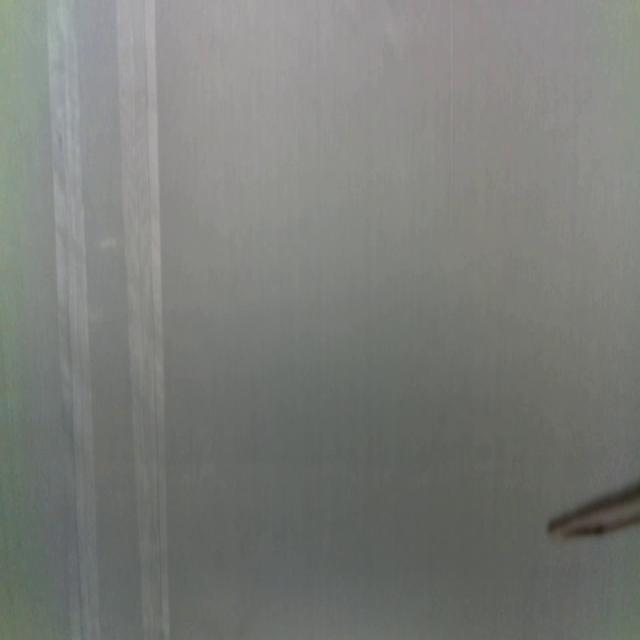crease: (118, 0, 172, 640), (46, 0, 98, 640), (448, 0, 455, 224)
